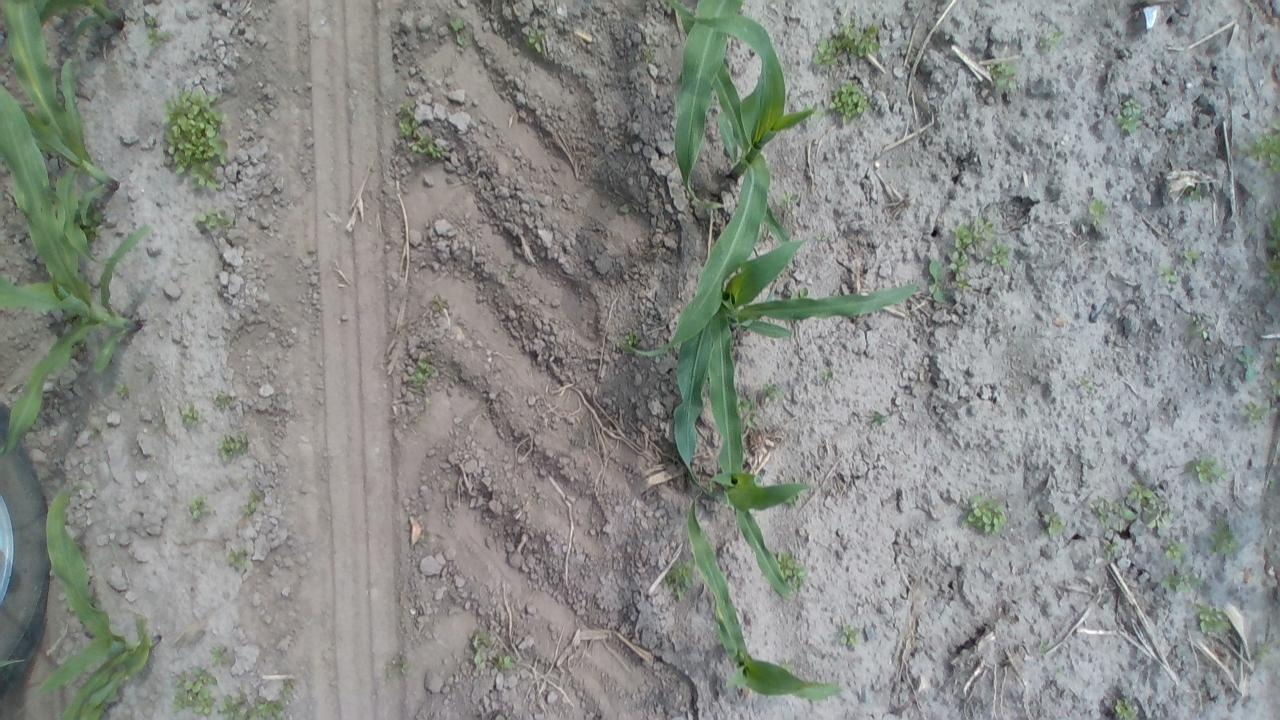Maize: (639, 187, 913, 496), (0, 49, 149, 460), (664, 0, 820, 301), (677, 310, 812, 616), (679, 476, 840, 704), (27, 483, 164, 714), (12, 11, 123, 285)
Weeds: (162, 86, 231, 194), (813, 17, 883, 65), (394, 102, 449, 160), (950, 218, 986, 295), (170, 666, 219, 716), (918, 258, 966, 305), (468, 626, 514, 673), (961, 493, 1008, 536), (826, 81, 872, 124), (218, 691, 286, 719), (1246, 124, 1278, 174), (665, 558, 697, 602), (1092, 498, 1133, 532), (1188, 453, 1230, 486), (1194, 600, 1232, 636), (776, 551, 810, 591), (1204, 518, 1238, 557), (984, 60, 1020, 93), (1158, 566, 1204, 590), (217, 429, 250, 461), (468, 626, 492, 670), (482, 641, 517, 671), (78, 200, 102, 242), (408, 356, 438, 389), (1115, 98, 1142, 134), (1124, 480, 1158, 508), (194, 207, 232, 232), (1238, 347, 1262, 386), (986, 240, 1012, 271), (1238, 401, 1270, 426), (446, 17, 470, 50), (1041, 512, 1070, 539), (523, 25, 549, 54), (145, 14, 166, 48), (1086, 196, 1108, 228), (739, 398, 762, 428), (1261, 209, 1276, 254), (1037, 27, 1062, 53), (208, 644, 235, 668), (188, 493, 210, 522), (241, 488, 262, 518), (227, 546, 251, 571), (384, 654, 411, 676), (1162, 537, 1185, 561), (778, 190, 801, 214), (1143, 509, 1172, 528), (1252, 637, 1274, 662), (839, 622, 861, 647), (180, 403, 201, 426), (763, 380, 783, 404), (1112, 700, 1138, 718), (1186, 324, 1210, 343), (1264, 255, 1276, 292), (428, 291, 448, 313), (620, 328, 638, 352), (1158, 264, 1179, 284), (868, 407, 890, 426), (213, 392, 236, 410), (1181, 246, 1201, 266), (789, 286, 812, 302), (1187, 184, 1205, 203), (277, 679, 294, 699), (1076, 374, 1093, 393), (115, 382, 132, 400), (640, 46, 657, 63), (500, 264, 516, 282), (819, 368, 835, 382), (1052, 666, 1068, 680)
